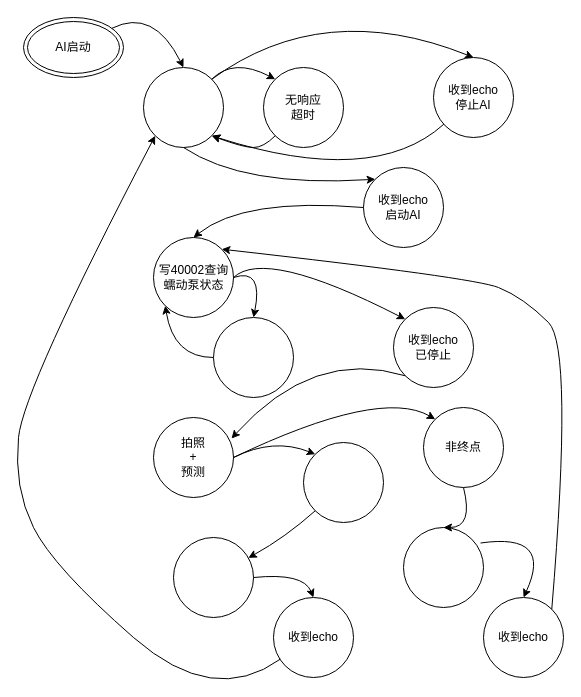
Some shapes in this 581 by 697 pixel diagram are drawn without their labels. The box of each missing label's shape, as (x1, y1, x2, y2) in pixels:
写40001通知 分析仪步长: (402, 526, 484, 608)
写40003查询 分析仪状态: (142, 66, 224, 148)
写40003通知 分析仪停止: (172, 536, 254, 618)
到终点: (302, 442, 384, 522)
收到echo 运行中: (212, 316, 294, 398)
